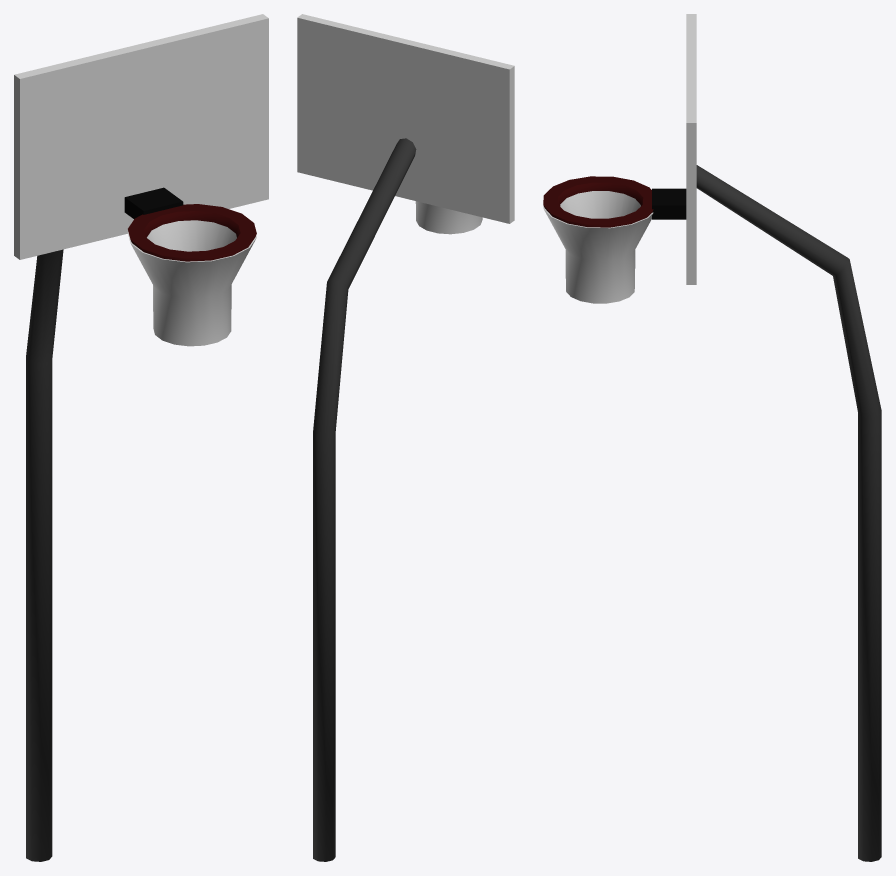
File: BasketballHoop.obj
3 views of the same model, side by side, from view 1: azimuth 30°, elevation 25°; view 2: azimuth 150°, elevation 25°; view 3: azimuth 270°, elevation 25° (orthographic). The views are drawn at different scales.
Visible parts, largest first — view 1: Cube.001_Cube.002, Cylinder_Cylinder_Material.005, Cube_Cube.001, Cube.003_Cube.005_Material.004, Cube.002_Cube.004_None; view 2: Cube.001_Cube.002, Cylinder_Cylinder_Material.005, Cube_Cube.001; view 3: Cylinder_Cylinder_Material.005, Cube_Cube.001, Cube.003_Cube.005_Material.004, Cube.001_Cube.002, Cube.002_Cube.004_None.
Boxes of the visible parts, <box> form: Cube.001_Cube.002: <box>14,14,268,259</box>; Cylinder_Cylinder_Material.005: <box>26,249,63,861</box>; Cube_Cube.001: <box>127,220,256,346</box>; Cube.003_Cube.005_Material.004: <box>128,204,256,261</box>; Cube.002_Cube.004_None: <box>124,187,183,218</box>; Cube.001_Cube.002: <box>297,14,514,223</box>; Cylinder_Cylinder_Material.005: <box>313,138,416,861</box>; Cube_Cube.001: <box>415,201,482,234</box>; Cylinder_Cylinder_Material.005: <box>696,165,881,861</box>; Cube_Cube.001: <box>543,191,653,303</box>; Cube.003_Cube.005_Material.004: <box>543,176,653,227</box>; Cube.001_Cube.002: <box>686,14,696,284</box>; Cube.002_Cube.004_None: <box>652,188,686,219</box>.
Size of the model in its own units: 2.21 by 7.48 by 2.9.
